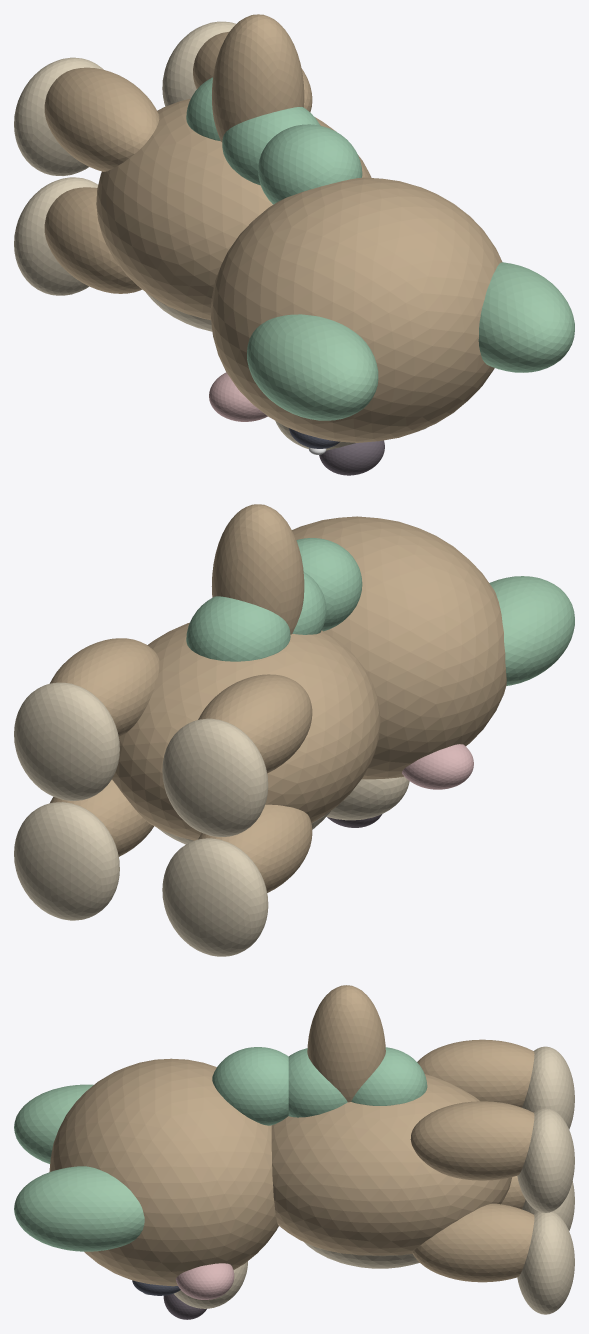
The model's file is dog-06.glb.
3 views of the same model, one above another, from view 1: azimuth 30°, elevation 25°; view 2: azimuth 150°, elevation 25°; view 3: azimuth 270°, elevation 25° (orthographic). The views are drawn at different scales.
Visible parts, largest first — view 1: head, body, earL, legShape_backL, earR, tail, spike2, legShape_frontL, paw_backL, paw_frontL, spike1, paw_backR (+5 smaller); view 2: head, body, paw_backL, paw_backR, paw_frontL, paw_frontR, tail, earL, legShape_backL, legShape_backR, spike0, legShape_frontL (+5 smaller); view 3: head, body, earR, legShape_backR, legShape_frontR, tail, legShape_backL, spike2, paw_backR, paw_frontR, earL, spike0 (+9 smaller).
Boxes of the visible parts, x1,y1,x2,y2 form: head: [211, 177, 502, 442]; body: [96, 98, 371, 320]; earL: [247, 314, 378, 420]; legShape_backL: [44, 67, 159, 171]; earR: [478, 262, 574, 372]; tail: [212, 14, 304, 142]; spike2: [258, 124, 362, 204]; legShape_frontL: [44, 187, 141, 293]; paw_backL: [14, 57, 103, 175]; paw_frontL: [14, 177, 97, 295]; spike1: [222, 107, 320, 185]; paw_backR: [162, 21, 235, 106]; head: [292, 516, 506, 779]; body: [112, 622, 380, 840]; paw_backL: [162, 718, 268, 836]; paw_backR: [14, 682, 119, 800]; paw_frontL: [162, 838, 268, 956]; paw_frontR: [14, 802, 119, 920]; tail: [211, 504, 304, 634]; earL: [489, 576, 574, 685]; legShape_backL: [198, 674, 312, 773]; legShape_backR: [50, 638, 159, 736]; spike0: [186, 596, 290, 661]; legShape_frontL: [198, 804, 312, 892]; head: [49, 1058, 278, 1286]; body: [271, 1074, 512, 1255]; earR: [14, 1166, 144, 1251]; legShape_backR: [410, 1101, 534, 1180]; legShape_frontR: [412, 1203, 534, 1282]; tail: [307, 985, 385, 1102]; legShape_backL: [417, 1039, 534, 1107]; spike2: [212, 1047, 288, 1125]; paw_backR: [517, 1108, 574, 1212]; paw_frontR: [517, 1211, 574, 1314]; earL: [14, 1084, 93, 1163]; spike0: [351, 1047, 427, 1105].
Size of the model in its own units: 1.48 by 1.84 by 2.85.
